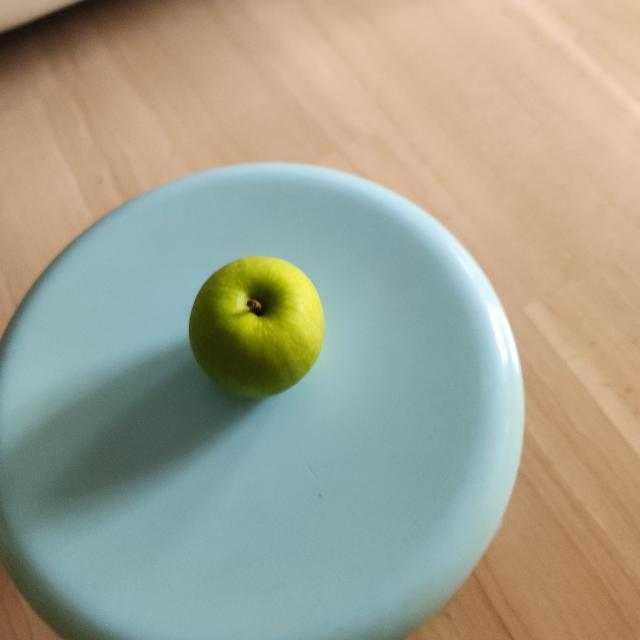apple: (190, 254, 323, 410)
